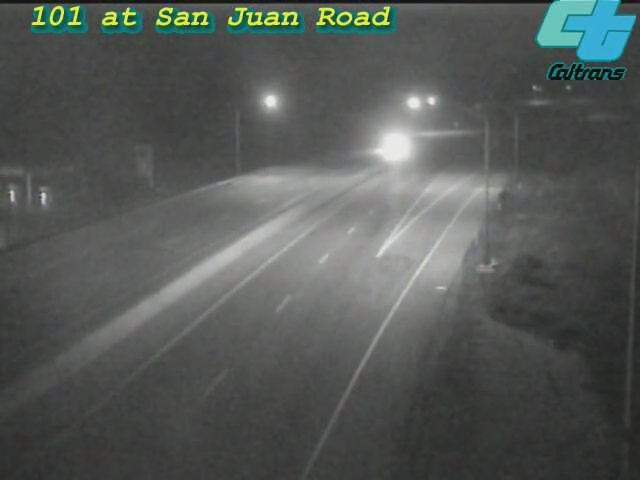vehicle: (365, 120, 415, 170)
